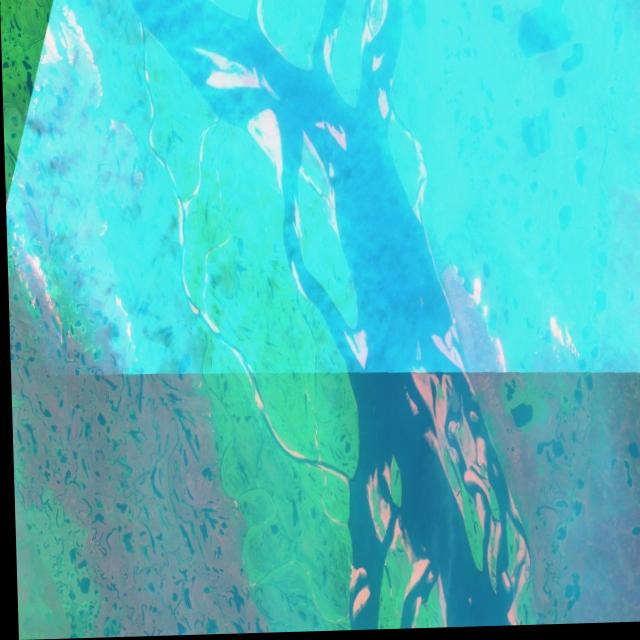fire: (5, 233, 64, 350)
